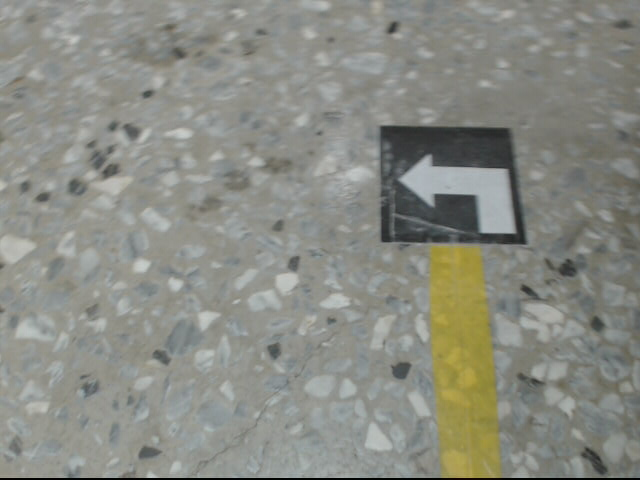left: (379, 122, 528, 244)
